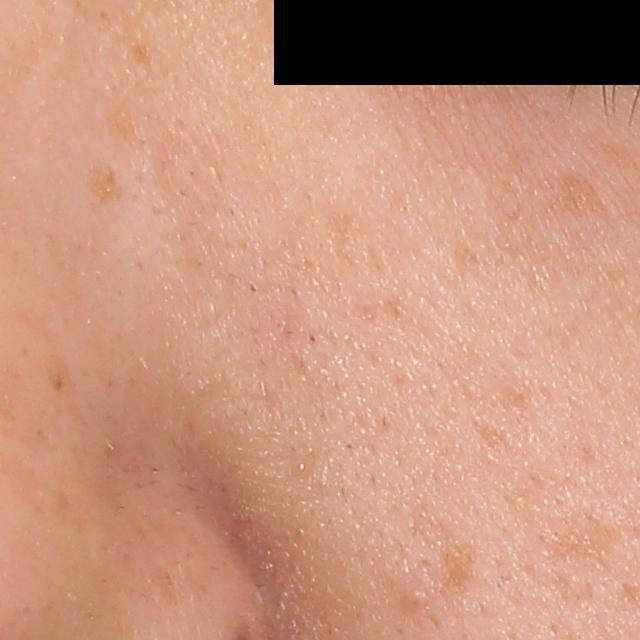comedo: (401, 584, 427, 612)
melasma: (558, 168, 611, 220), (438, 541, 477, 596), (85, 159, 123, 205), (129, 43, 153, 70)
